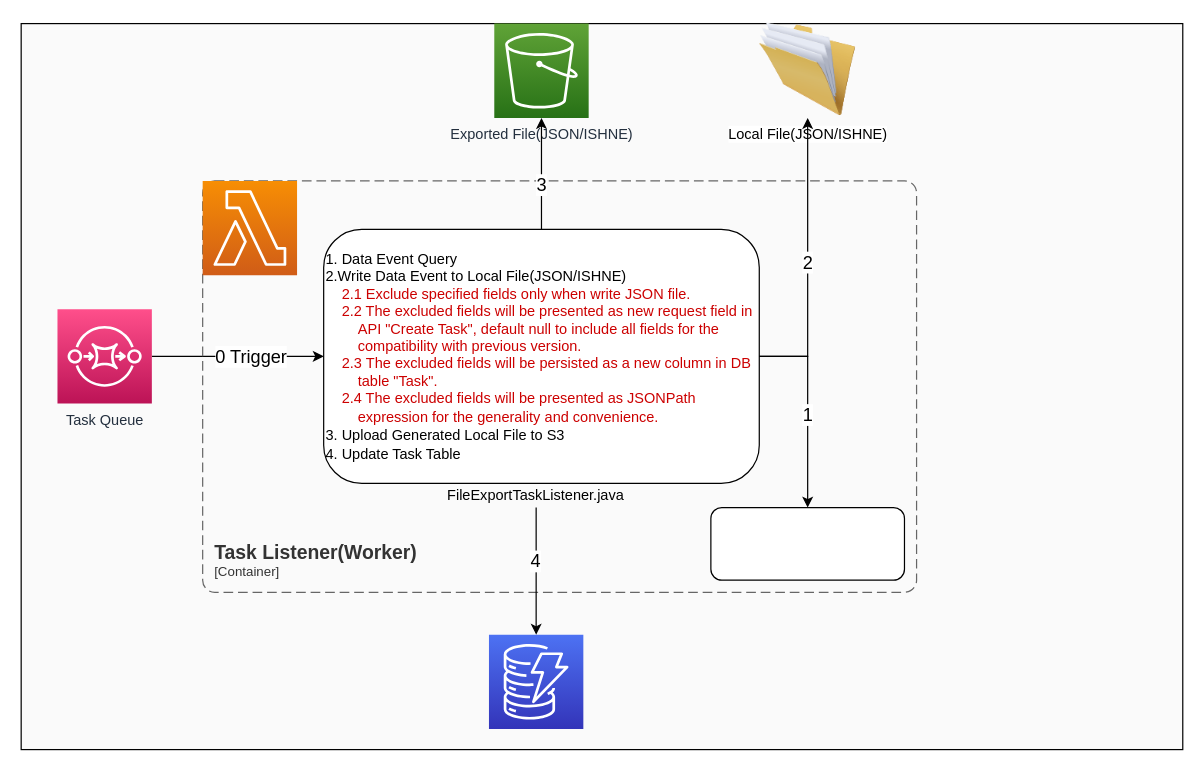
The diagram is 1204 pixels wide and 774 high, and some of its shapes have lost their labels. Each missing label, with the centre of its shape:
Task Table: the point at 535,681
VitalQueryServiceImpl.java: the point at 807,543
